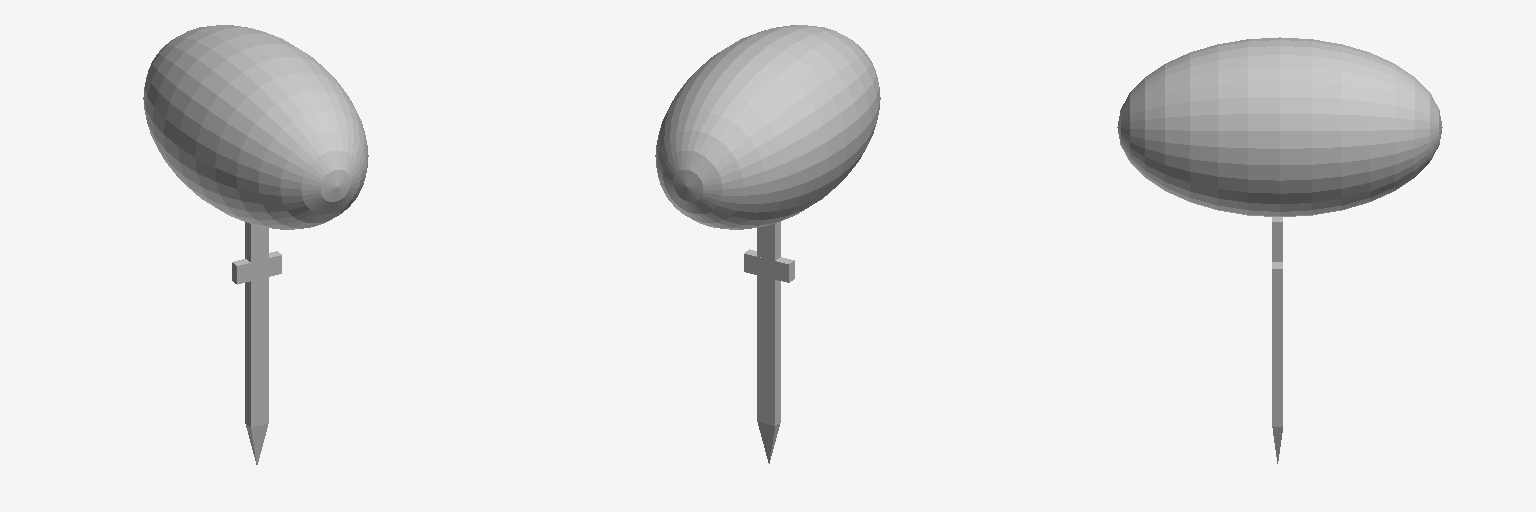
Rendered from PlayerSword.obj.
3 views of the same model, side by side, from view 1: azimuth 30°, elevation 25°; view 2: azimuth 150°, elevation 25°; view 3: azimuth 270°, elevation 25° (orthographic).
Visible parts, largest first — view 1: Sphere, Cube, Cube.001; view 2: Sphere, Cube, Cube.001; view 3: Sphere, Cube.
Part boxes in pixels (bbox=[...]): Sphere: bbox=[143, 25, 368, 229]; Cube: bbox=[245, 222, 268, 464]; Cube.001: bbox=[232, 251, 281, 284]; Sphere: bbox=[655, 25, 880, 229]; Cube: bbox=[757, 221, 780, 463]; Cube.001: bbox=[744, 249, 794, 282]; Sphere: bbox=[1117, 37, 1442, 216]; Cube: bbox=[1272, 217, 1282, 463].
Bounding box in the file's own units: 1.11 × 2.85 × 2.